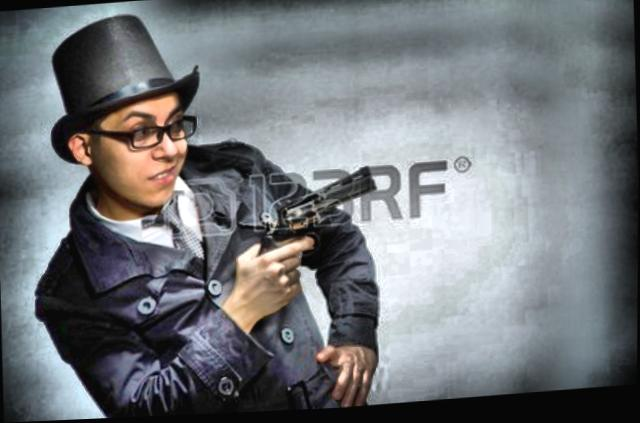pistol: (255, 169, 373, 263)
